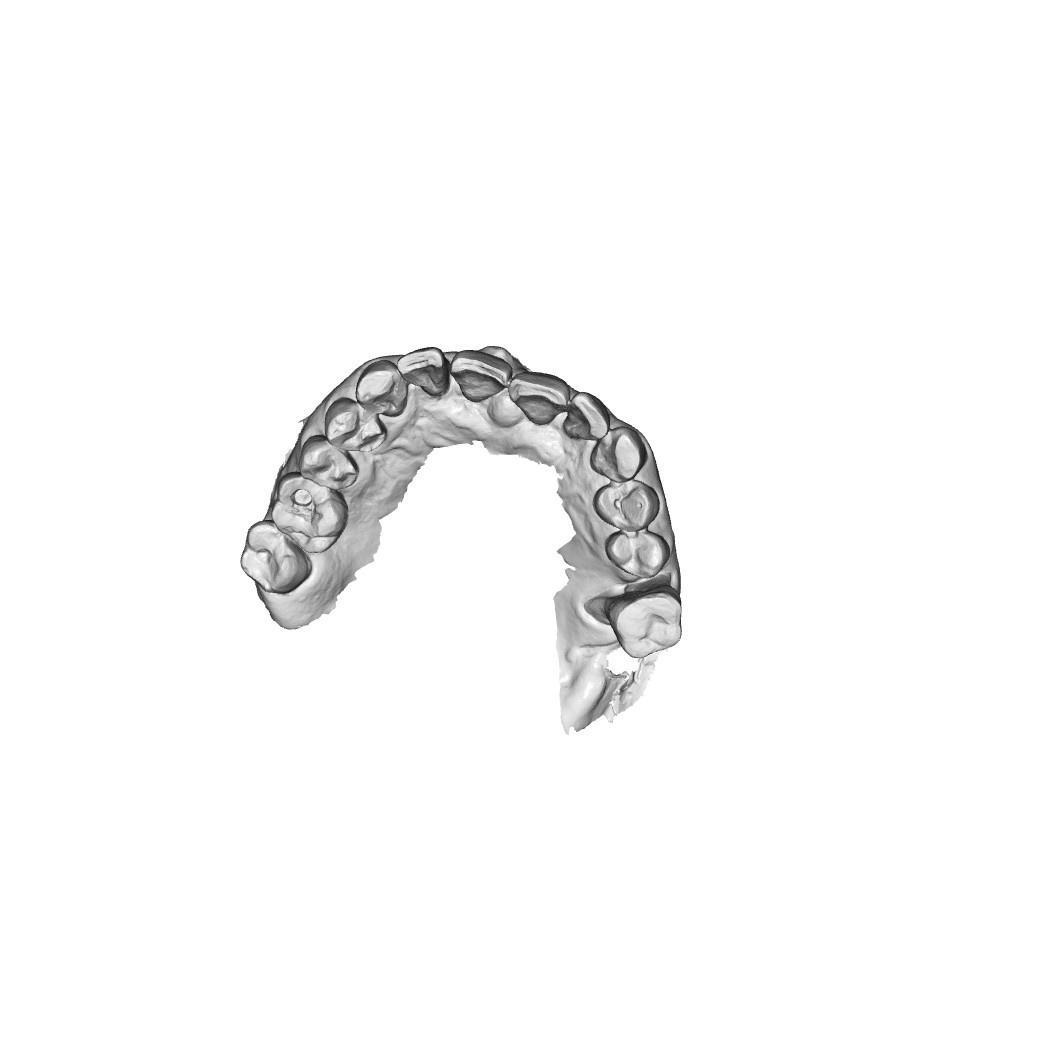canine: (358, 360, 406, 418), (589, 424, 643, 472)
incisor: (452, 349, 511, 405), (505, 372, 567, 425), (557, 392, 611, 446), (402, 343, 446, 394)
molar: (609, 593, 692, 663), (277, 478, 349, 549), (239, 524, 300, 595)
premolar: (322, 398, 383, 452), (593, 488, 657, 536), (609, 524, 669, 575), (303, 439, 352, 491)
